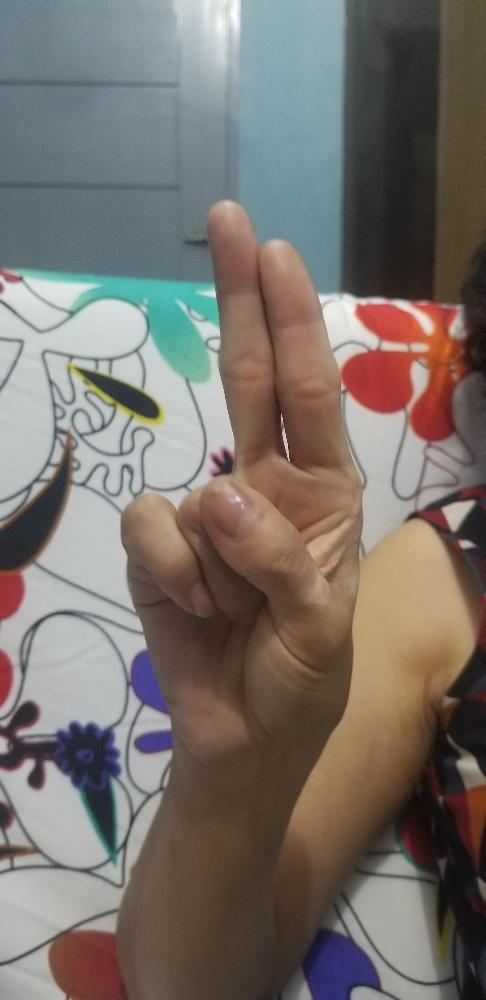u: (116, 196, 367, 766)
